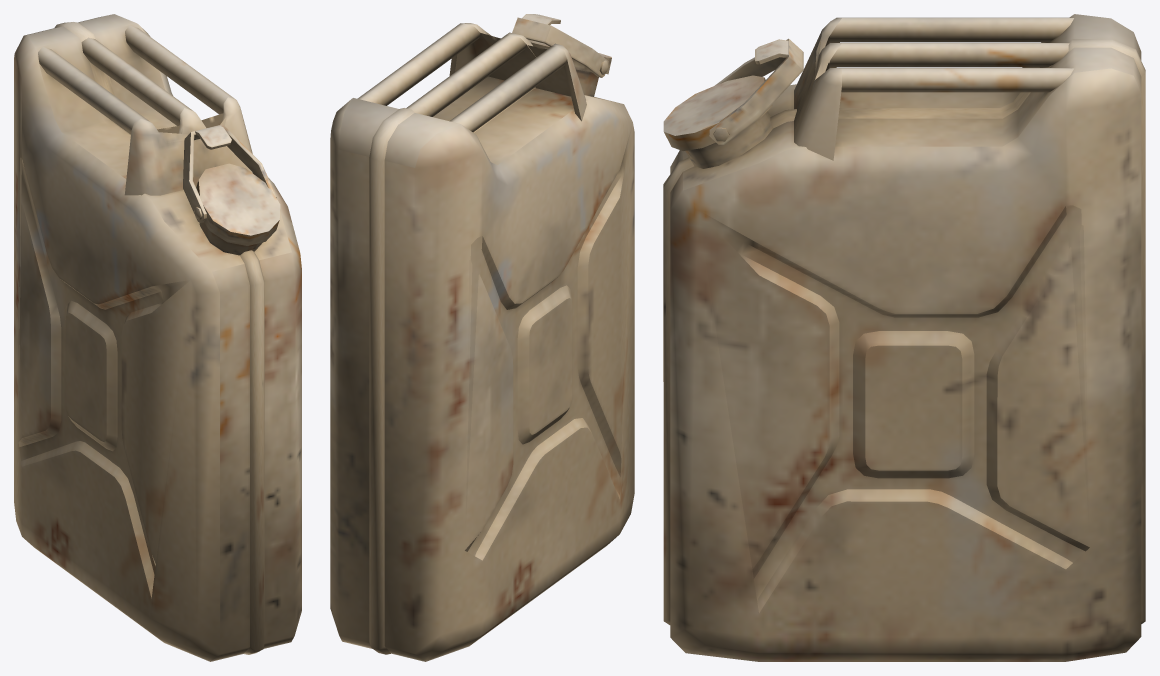
The model's file is jerrycan02_prp.fbx.
3 views of the same model, side by side, from view 1: azimuth 30°, elevation 25°; view 2: azimuth 150°, elevation 25°; view 3: azimuth 270°, elevation 25° (orthographic). The views are drawn at different scales.
Parts seen in each view (by area): view 1: jerrycan_nato02_prp_1; view 2: jerrycan_nato02_prp_1; view 3: jerrycan_nato02_prp_1.
Part boxes in pixels (x1,y1,x2,y2): jerrycan_nato02_prp_1: (14, 14, 301, 661); jerrycan_nato02_prp_1: (330, 14, 634, 661); jerrycan_nato02_prp_1: (663, 14, 1145, 661).
Size of the model in its own units: 0.1506 by 0.5253 by 0.3897.
